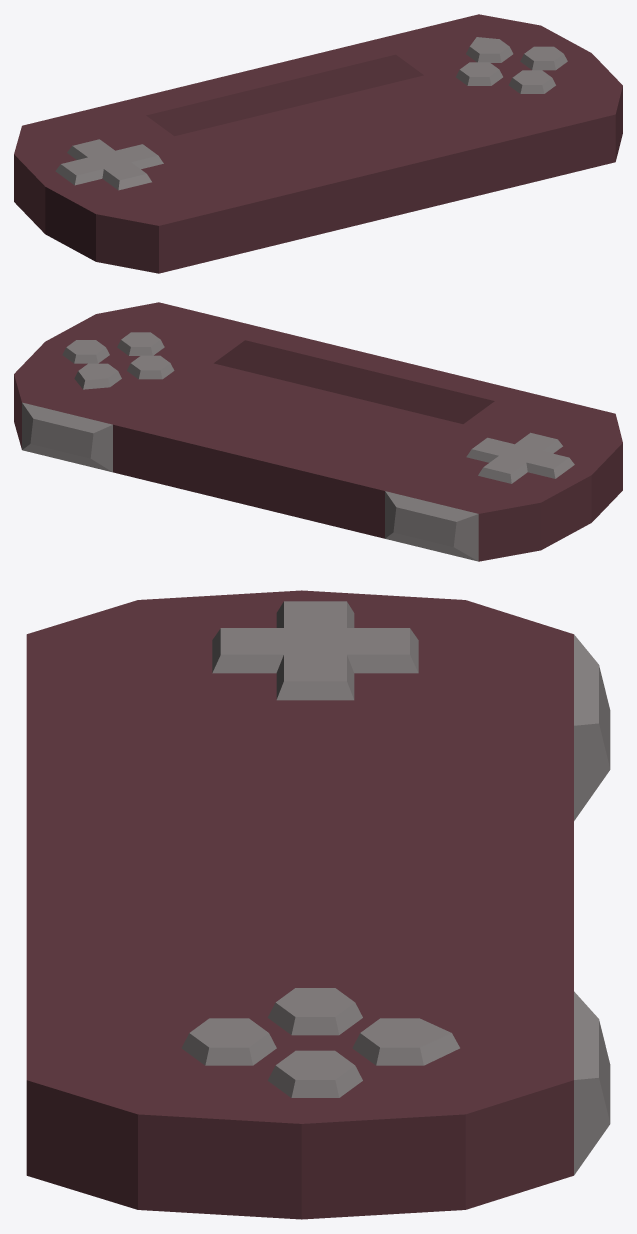
File: console-handheld.fbx
3 views of the same model, one above another, from view 1: azimuth 30°, elevation 25°; view 2: azimuth 150°, elevation 25°; view 3: azimuth 270°, elevation 25° (orthographic). The views are drawn at different scales.
Visible parts, largest first — view 1: console-handheld; view 2: console-handheld; view 3: console-handheld.
Part boxes in pixels (<box>): console-handheld: <box>14,14,622,273</box>; console-handheld: <box>14,302,622,561</box>; console-handheld: <box>26,590,610,1219</box>.
Size of the model in its own units: 0.225 by 0.0218 by 0.1041.
